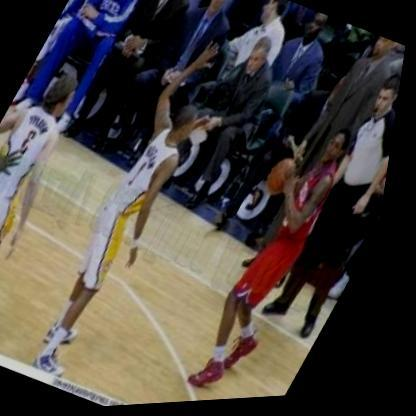basketball: (262, 154, 311, 205)
